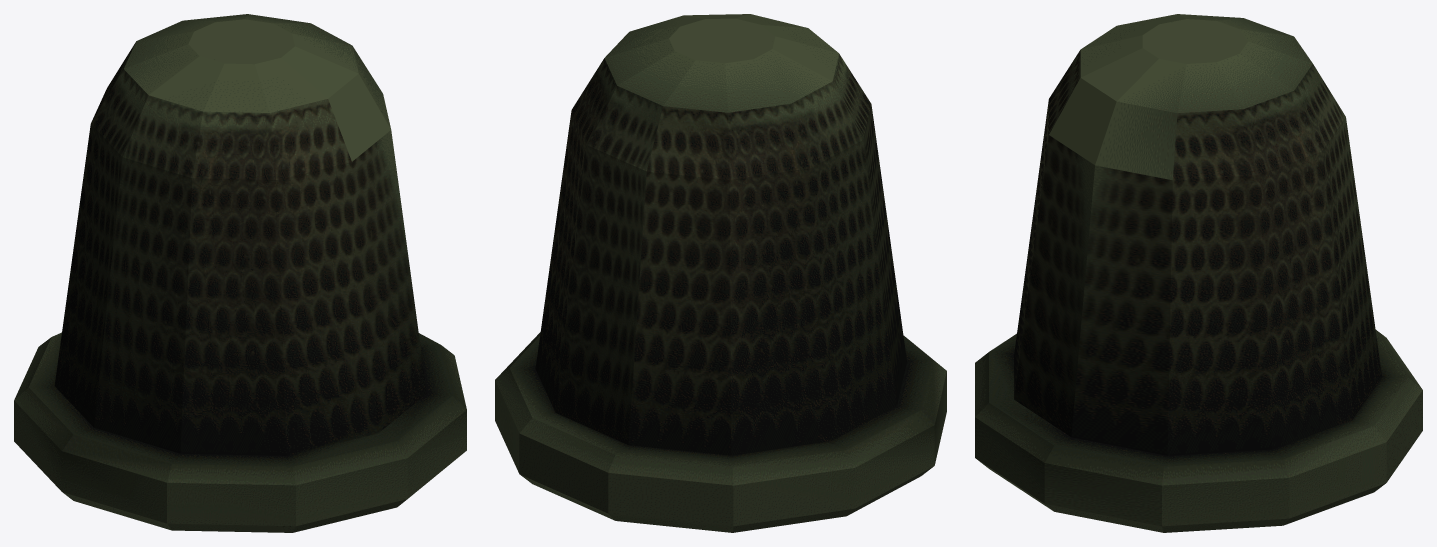
Rendered from LD56_Thimble.fbx.
3 views of the same model, side by side, from view 1: azimuth 30°, elevation 25°; view 2: azimuth 150°, elevation 25°; view 3: azimuth 270°, elevation 25° (orthographic).
Visible parts, largest first — view 1: thimble; view 2: thimble; view 3: thimble.
Boxes of the visible parts, x1,y1,x2,y2 form: thimble: (14, 14, 466, 532); thimble: (495, 14, 946, 532); thimble: (975, 14, 1422, 532).
Bounding box in the file's own units: 107 × 105 × 106.
